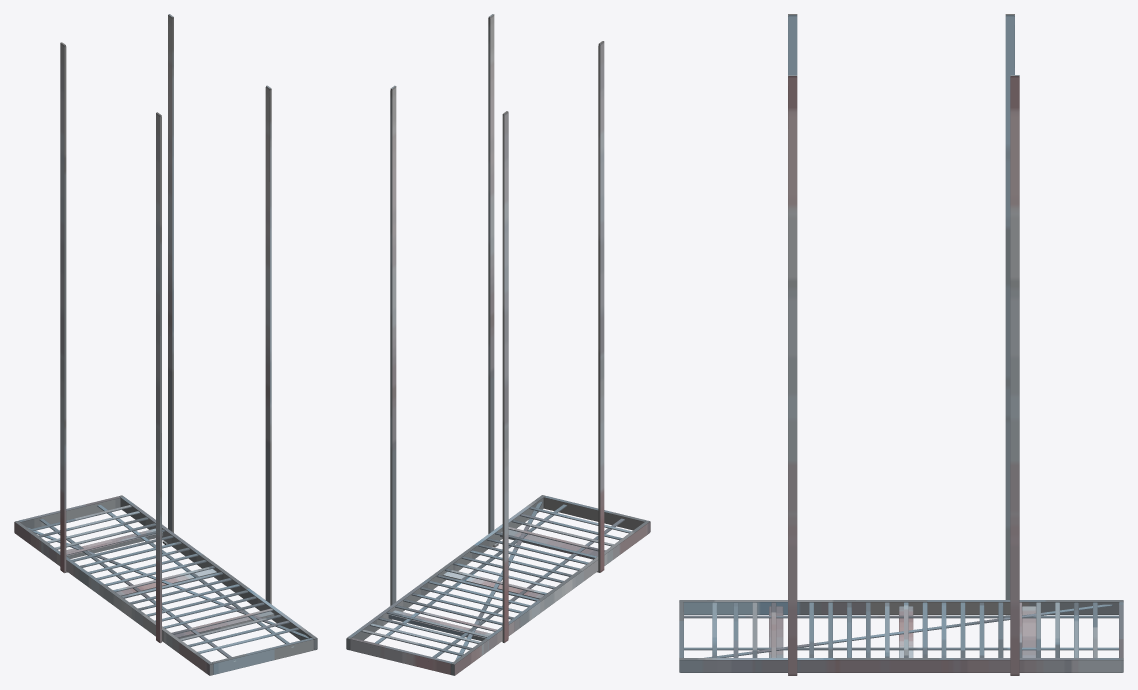
The model's file is Scaffolding_2.fbx.
The picture shows the model from 3 angles, left to right: view 1: azimuth 30°, elevation 25°; view 2: azimuth 150°, elevation 25°; view 3: azimuth 270°, elevation 25°; orthographic projection. The views are drawn at different scales.
Visible parts, largest first — view 1: One of the Legs, cuboid, cuboid_33, cuboid_32, cuboid_1, cuboid_2, cuboid_3, cuboid_4, cuboid_16, cuboid_17, cuboid_5, cuboid_15 (+2 smaller); view 2: cuboid_33, One of the Legs, cuboid_32, cuboid, cuboid_1, cuboid_2, cuboid_4, cuboid_3, cuboid_5, cuboid_6, cuboid_15, cuboid_17 (+2 smaller); view 3: cuboid_2, cuboid_32, cuboid, cuboid_1, One of the Legs, cuboid_15, cuboid_17, cuboid_16, cuboid_5.
Boxes of the visible parts, x1,y1,x2,y2 form: One of the Legs: (60,42,66,573); cuboid: (265,85,271,604); cuboid_33: (156,112,161,643); cuboid_32: (168,14,173,532); cuboid_1: (14,521,213,675); cuboid_2: (119,495,317,650); cuboid_3: (211,638,313,674); cuboid_4: (18,496,120,528); cuboid_16: (27,527,308,638); cuboid_17: (97,505,294,647); cuboid_5: (66,528,163,558); cuboid_15: (39,519,236,661); cuboid_33: (598,41,604,572); One of the Legs: (502,111,508,642); cuboid_32: (390,85,396,605); cuboid: (488,14,494,533); cuboid_1: (451,520,650,675); cuboid_2: (346,495,545,650); cuboid_4: (350,637,452,674); cuboid_3: (543,496,646,530); cuboid_5: (388,610,491,640); cuboid_6: (500,529,598,559); cuboid_15: (432,518,624,657); cuboid_17: (375,504,567,643); cuboid_2: (679,658,1123,672); cuboid_32: (1010,75,1019,675); cuboid: (788,75,797,675); cuboid_1: (679,600,1123,614); One of the Legs: (1005,14,1014,599); cuboid_15: (684,615,1118,618); cuboid_17: (684,647,1118,650); cuboid_16: (704,604,1112,657); cuboid_5: (1022,606,1036,657).
Size of the model in its own units: 194 by 875 by 588.
Materials: 3 (3 with a texture image).
